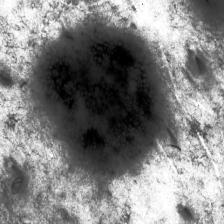Benign Marking or Mole: (39, 34, 165, 173)
